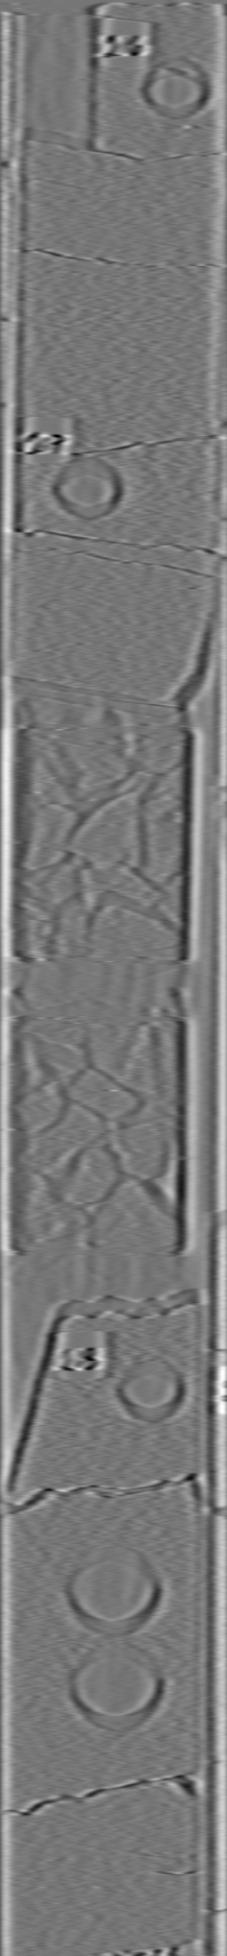hplug: (110, 1351, 190, 1427), (47, 449, 130, 521), (140, 55, 216, 125)
scal: (62, 1539, 168, 1640), (62, 1639, 172, 1735)
vplug: (22, 1, 110, 155)
